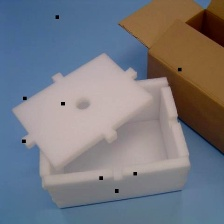book: (114, 0, 224, 156)
foam_box: (6, 48, 195, 212)
